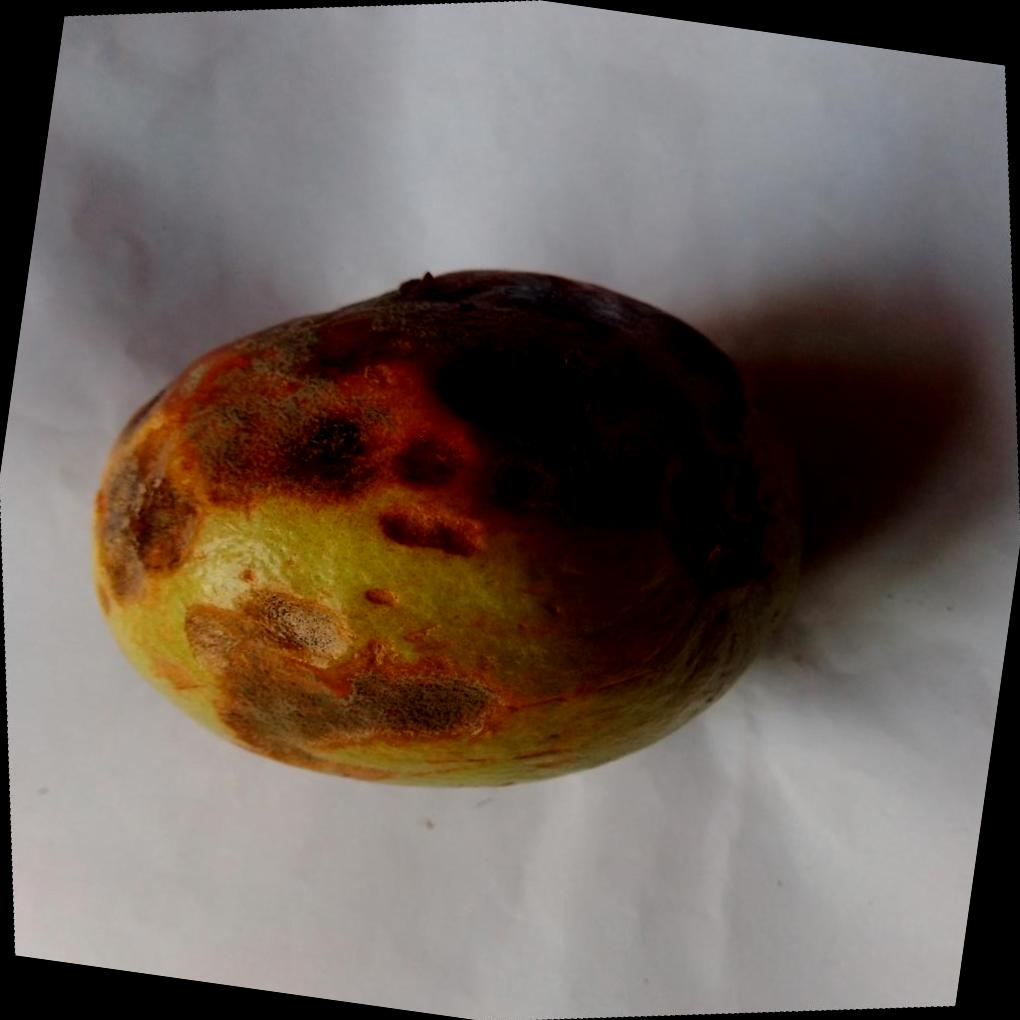FreshOrange: (91, 267, 814, 791)
